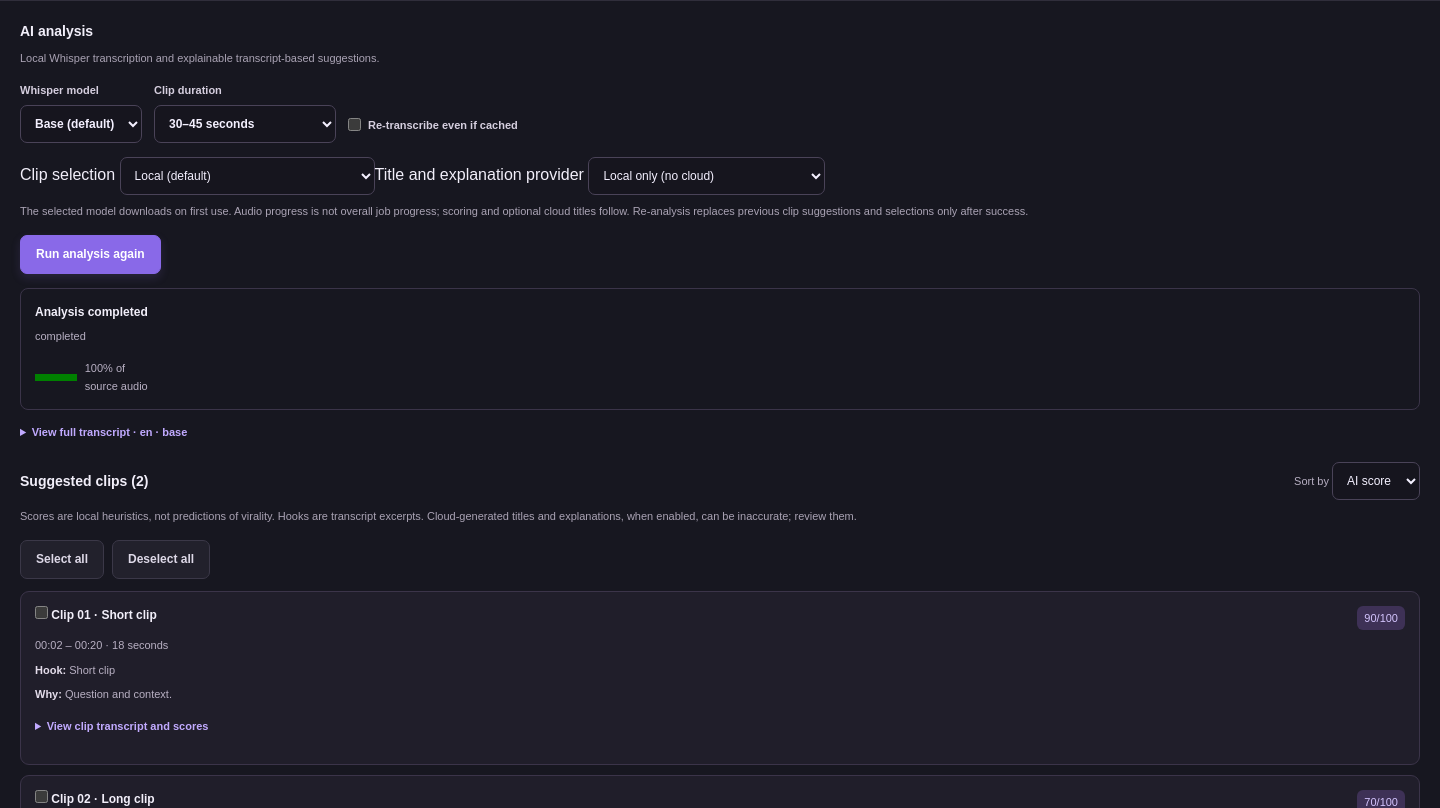
Test: AI analysis › displays, sorts, opens transcripts, and saves individual and all selections
The image size is (1440, 808).
Expected: the heading "Suggested clips (2)" is shown, [20,471,148,492]
Click the checkbox labelled "Clip 01 · Short clip": (42, 612) [35,606,48,619]
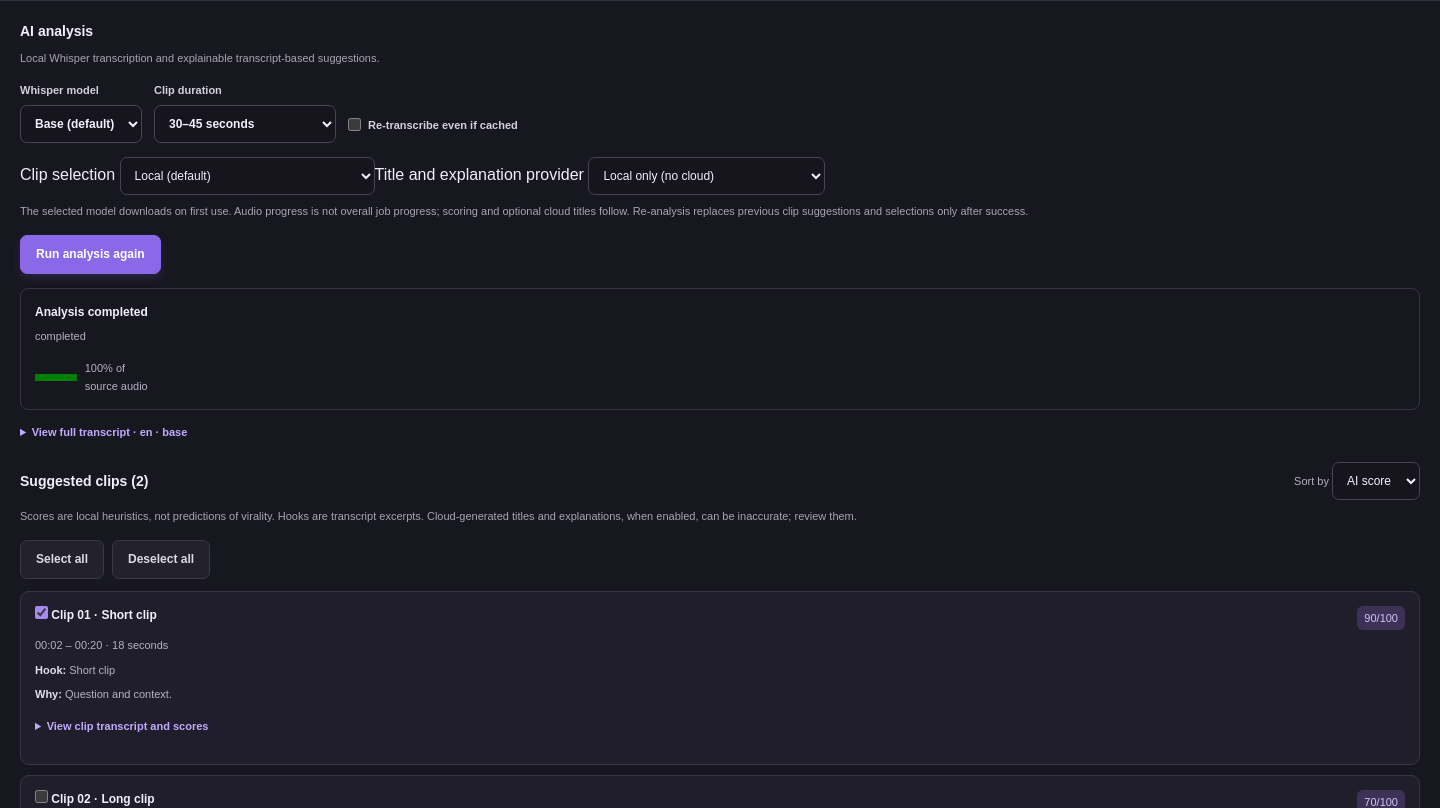
Expected: the checkbox named "Select clip 1" is checked, [35,606,48,619]
Click the button "Select all": (62, 559) [20,540,104,579]
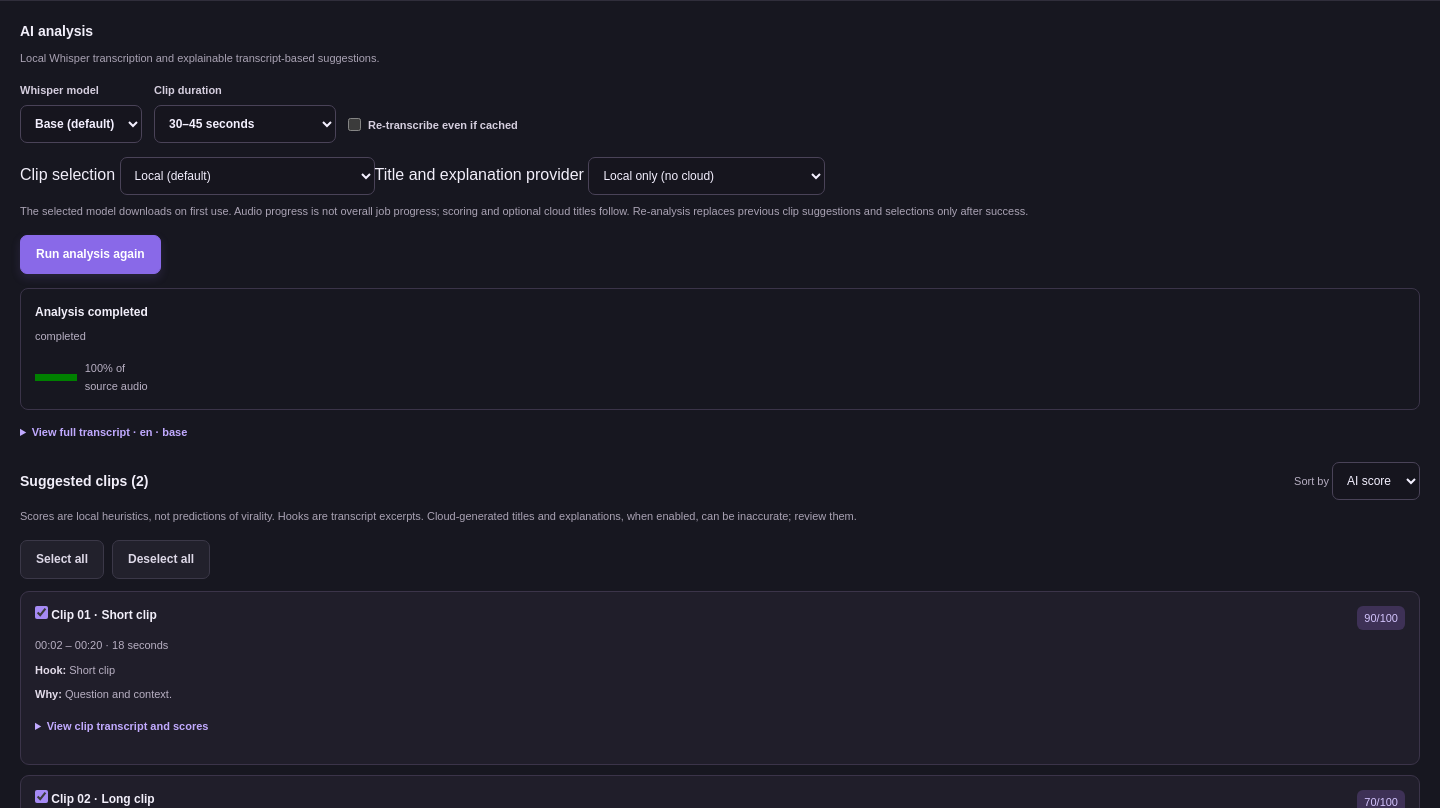
Expected: the checkbox named "Select clip 2" is checked, [35,790,48,802]
Click the button "Deselect all": (161, 559) [112,540,210,579]
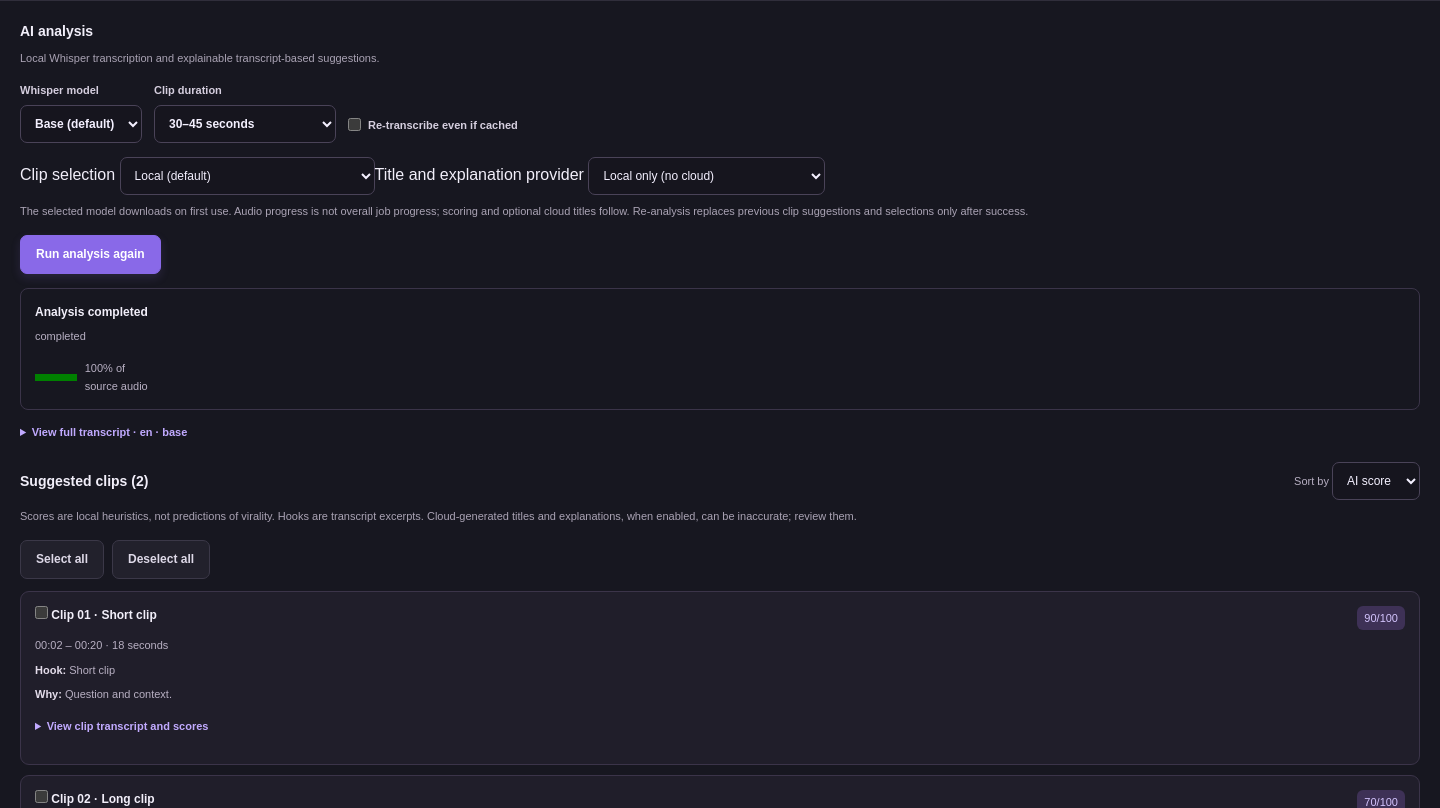
Expected: the checkbox named "Select clip 1" is not checked, [35,606,48,619]
Select "Duration" in the dropdown labelled "Sort by": (1376, 481) [1332,462,1420,500]
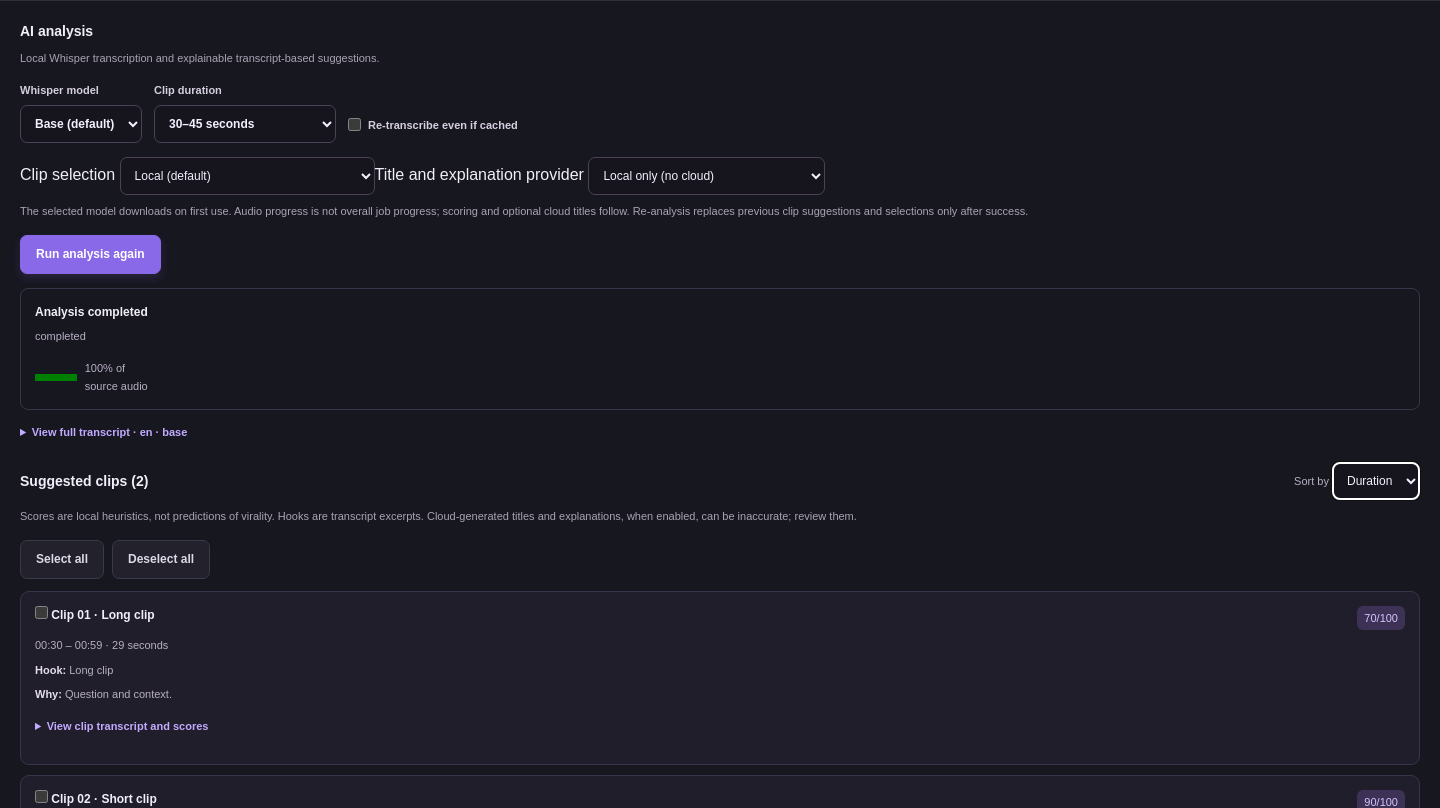
Expected: the text "Clip 01 · Long clip" is shown, [51,608,155,622]
Click the heading "View full transcript · en · base": (109, 432) [32,426,187,438]
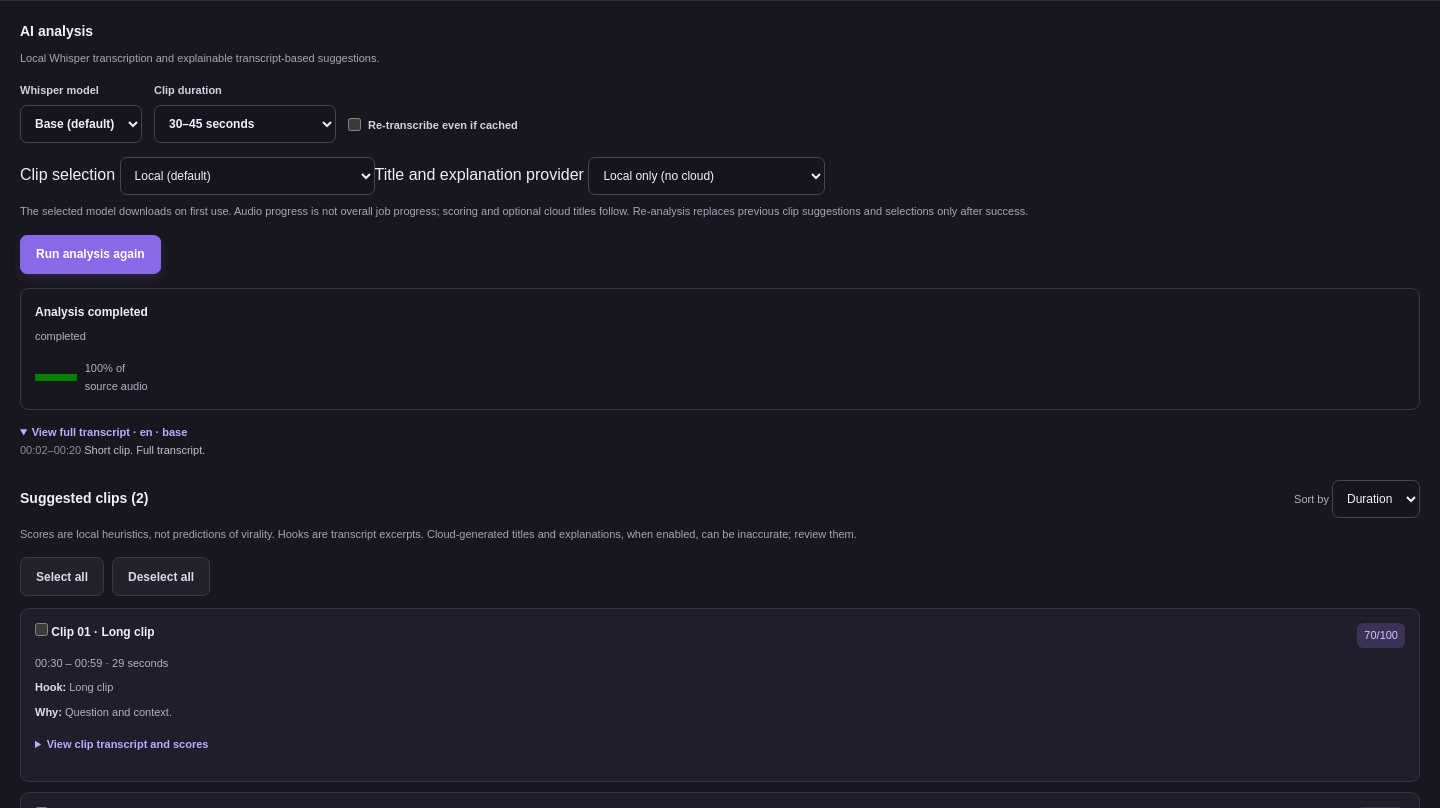
Expected: the text "Short clip. Full transcript." is shown, [84,444,205,456]
